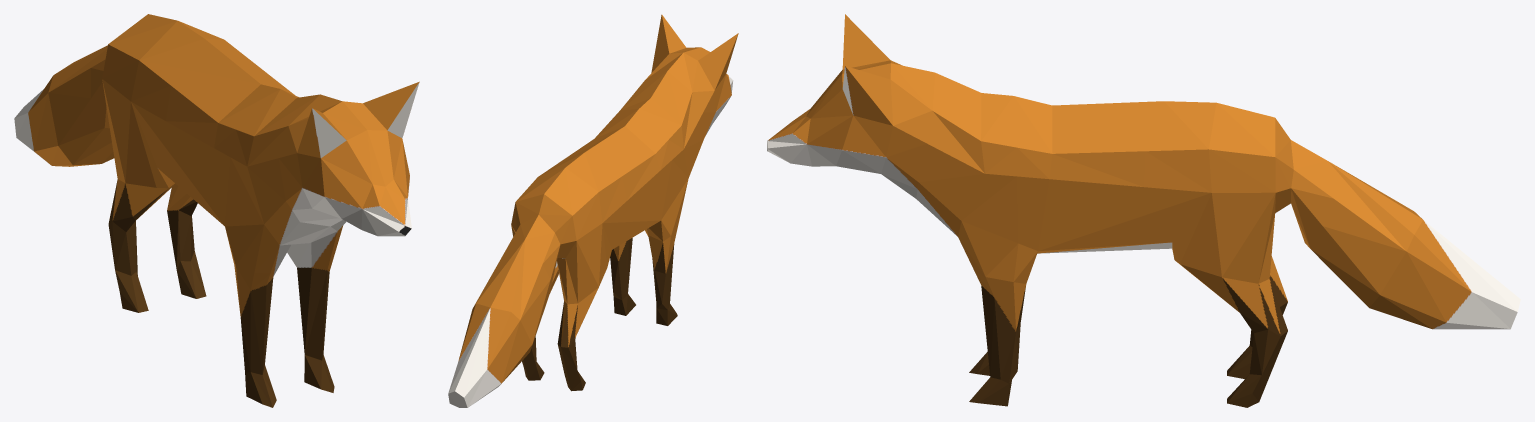
File: Fox2.glb
3 renders of one model, left to right at view 1: azimuth 30°, elevation 25°; view 2: azimuth 150°, elevation 25°; view 3: azimuth 270°, elevation 25°, orthographic. The views are drawn at different scales.
Parts seen in each view (by area): view 1: fox; view 2: fox; view 3: fox.
Boxes of the visible parts, x1=… form: fox: x1=14, y1=14, x2=419, y2=407; fox: x1=448, y1=14, x2=738, y2=407; fox: x1=767, y1=14, x2=1520, y2=407.
Bounding box in the file's own units: 0.4763 × 1.49 × 2.93.
1 material, 1 textured.
